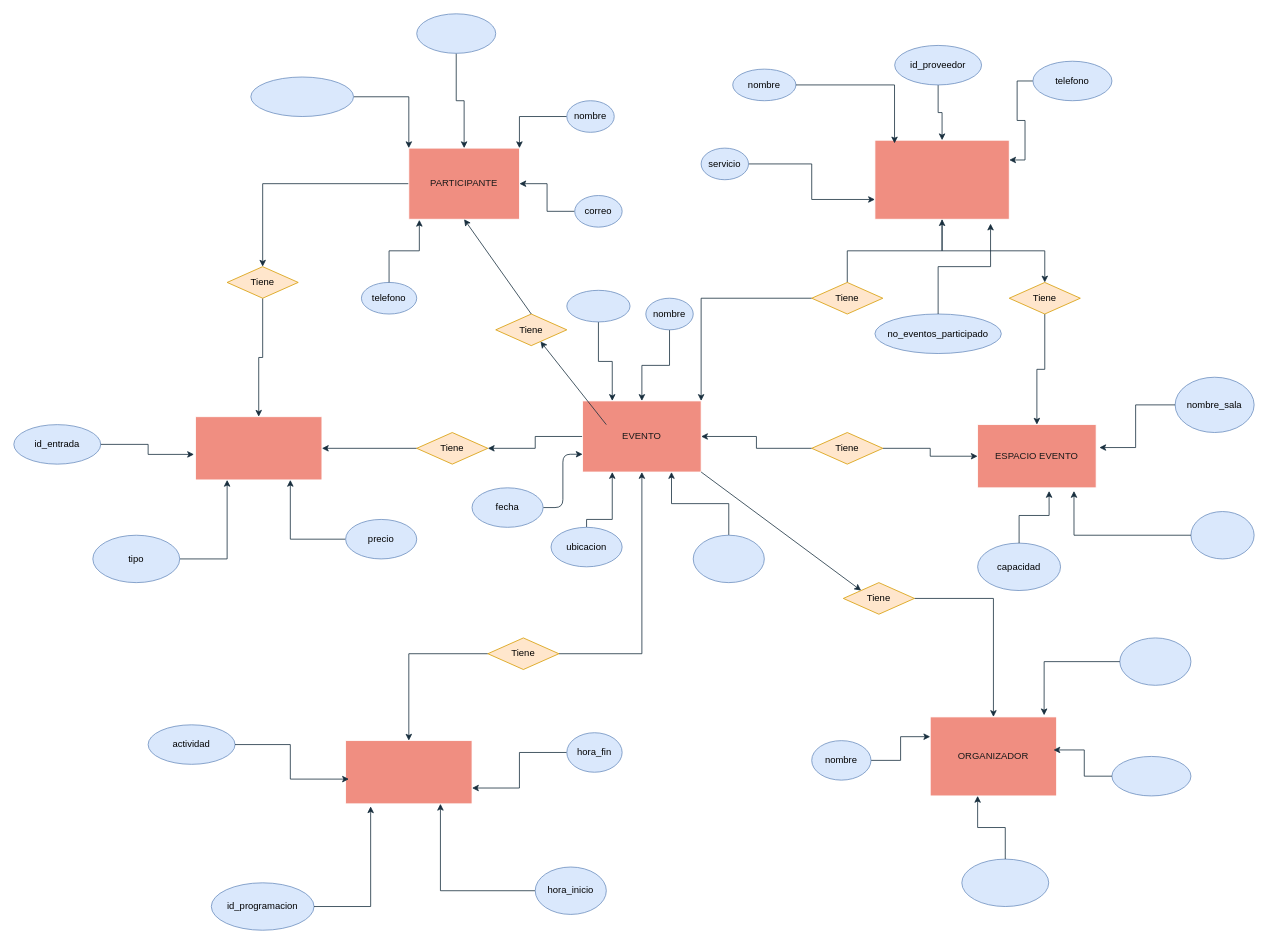
This 1268x944 diagram has some shape labels left out. The centre of each missing label's shape, as x and y in pixels:
cargo: the point at 1155,661
contacto: the point at 1151,776
ENTRADA: the point at 258,448
id_espacio: the point at 1222,535
id_evento: the point at 598,306
id_organizador: the point at 1005,882
id_participante: the point at 456,33
PROGRAMACION: the point at 408,772
PROVEEDOR: the point at 941,179
tipo_evento: the point at 728,558
tipo_participante: the point at 302,96
